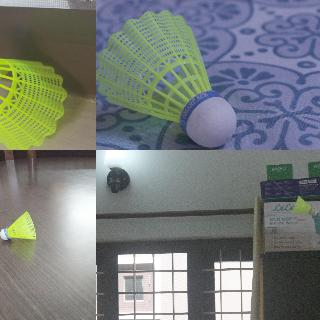shuttlecock: (96, 9, 237, 148), (0, 43, 67, 149), (0, 212, 36, 240), (292, 196, 316, 216)
